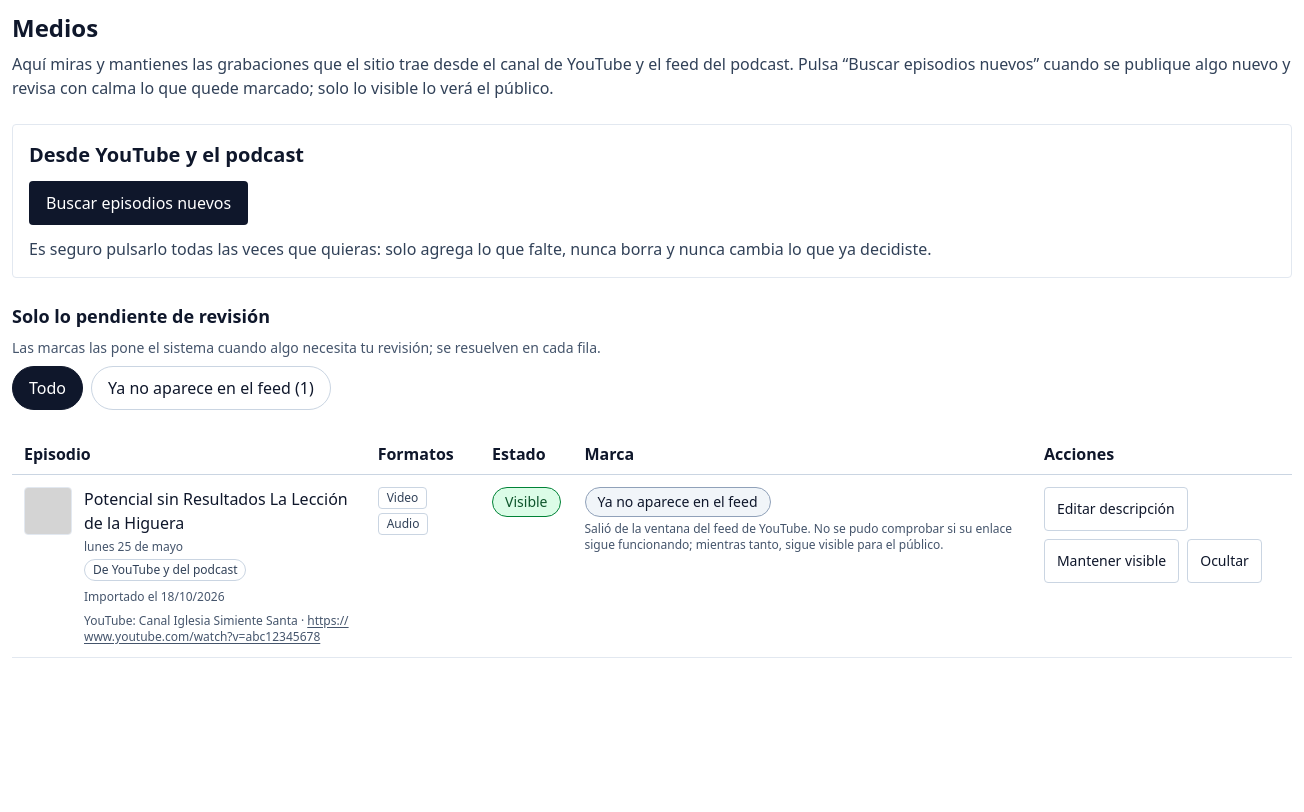
Test: MediosPage · listado del catálogo (US3, ux.md §4.3/§5.b) › las resoluciones de la marca de disponibilidad viajan con SU `mark` (P9-19)
Expected: the table is shown, [12,434,1292,658]
Click the button "Mantener visible": (1112, 561) [1044,539,1179,583]
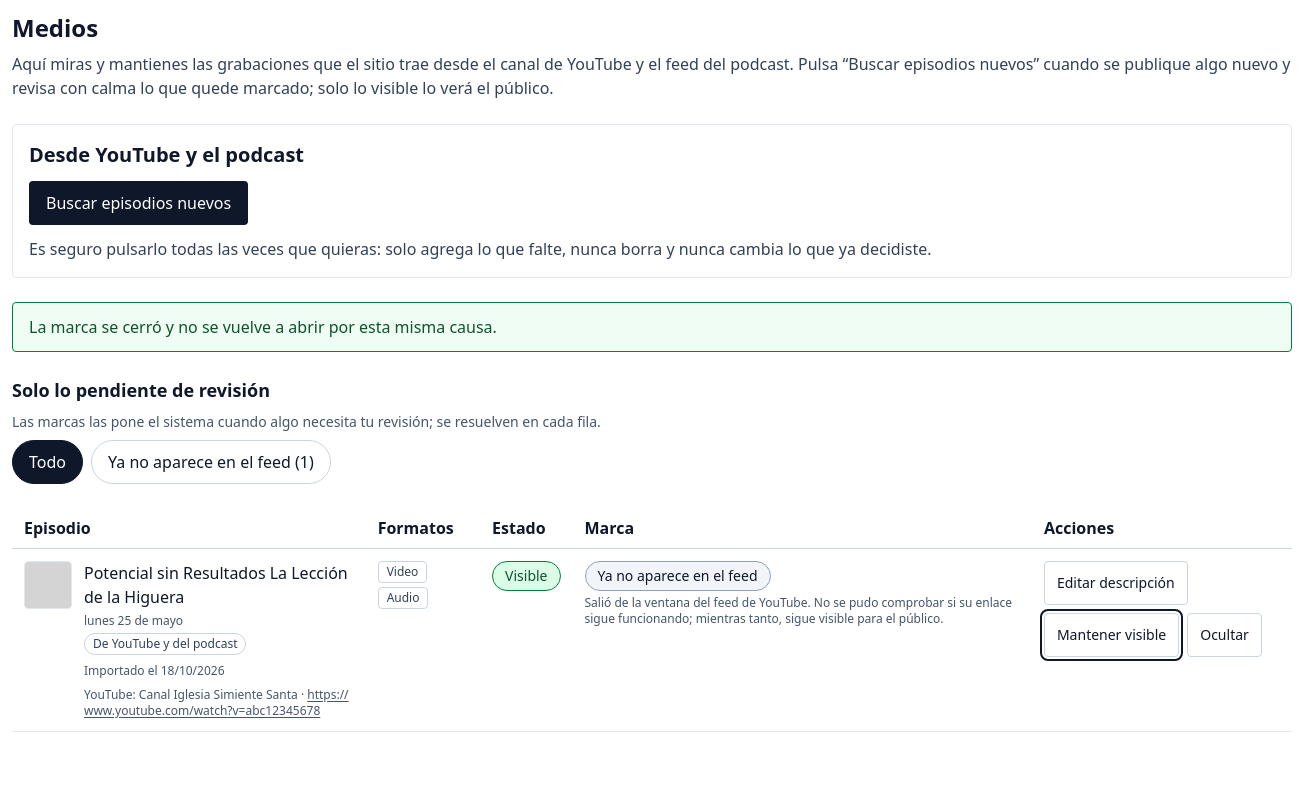
Expected: the text "La marca se cerró y no se vuelve a abrir por esta misma causa." is shown, [12,302,1292,352]
